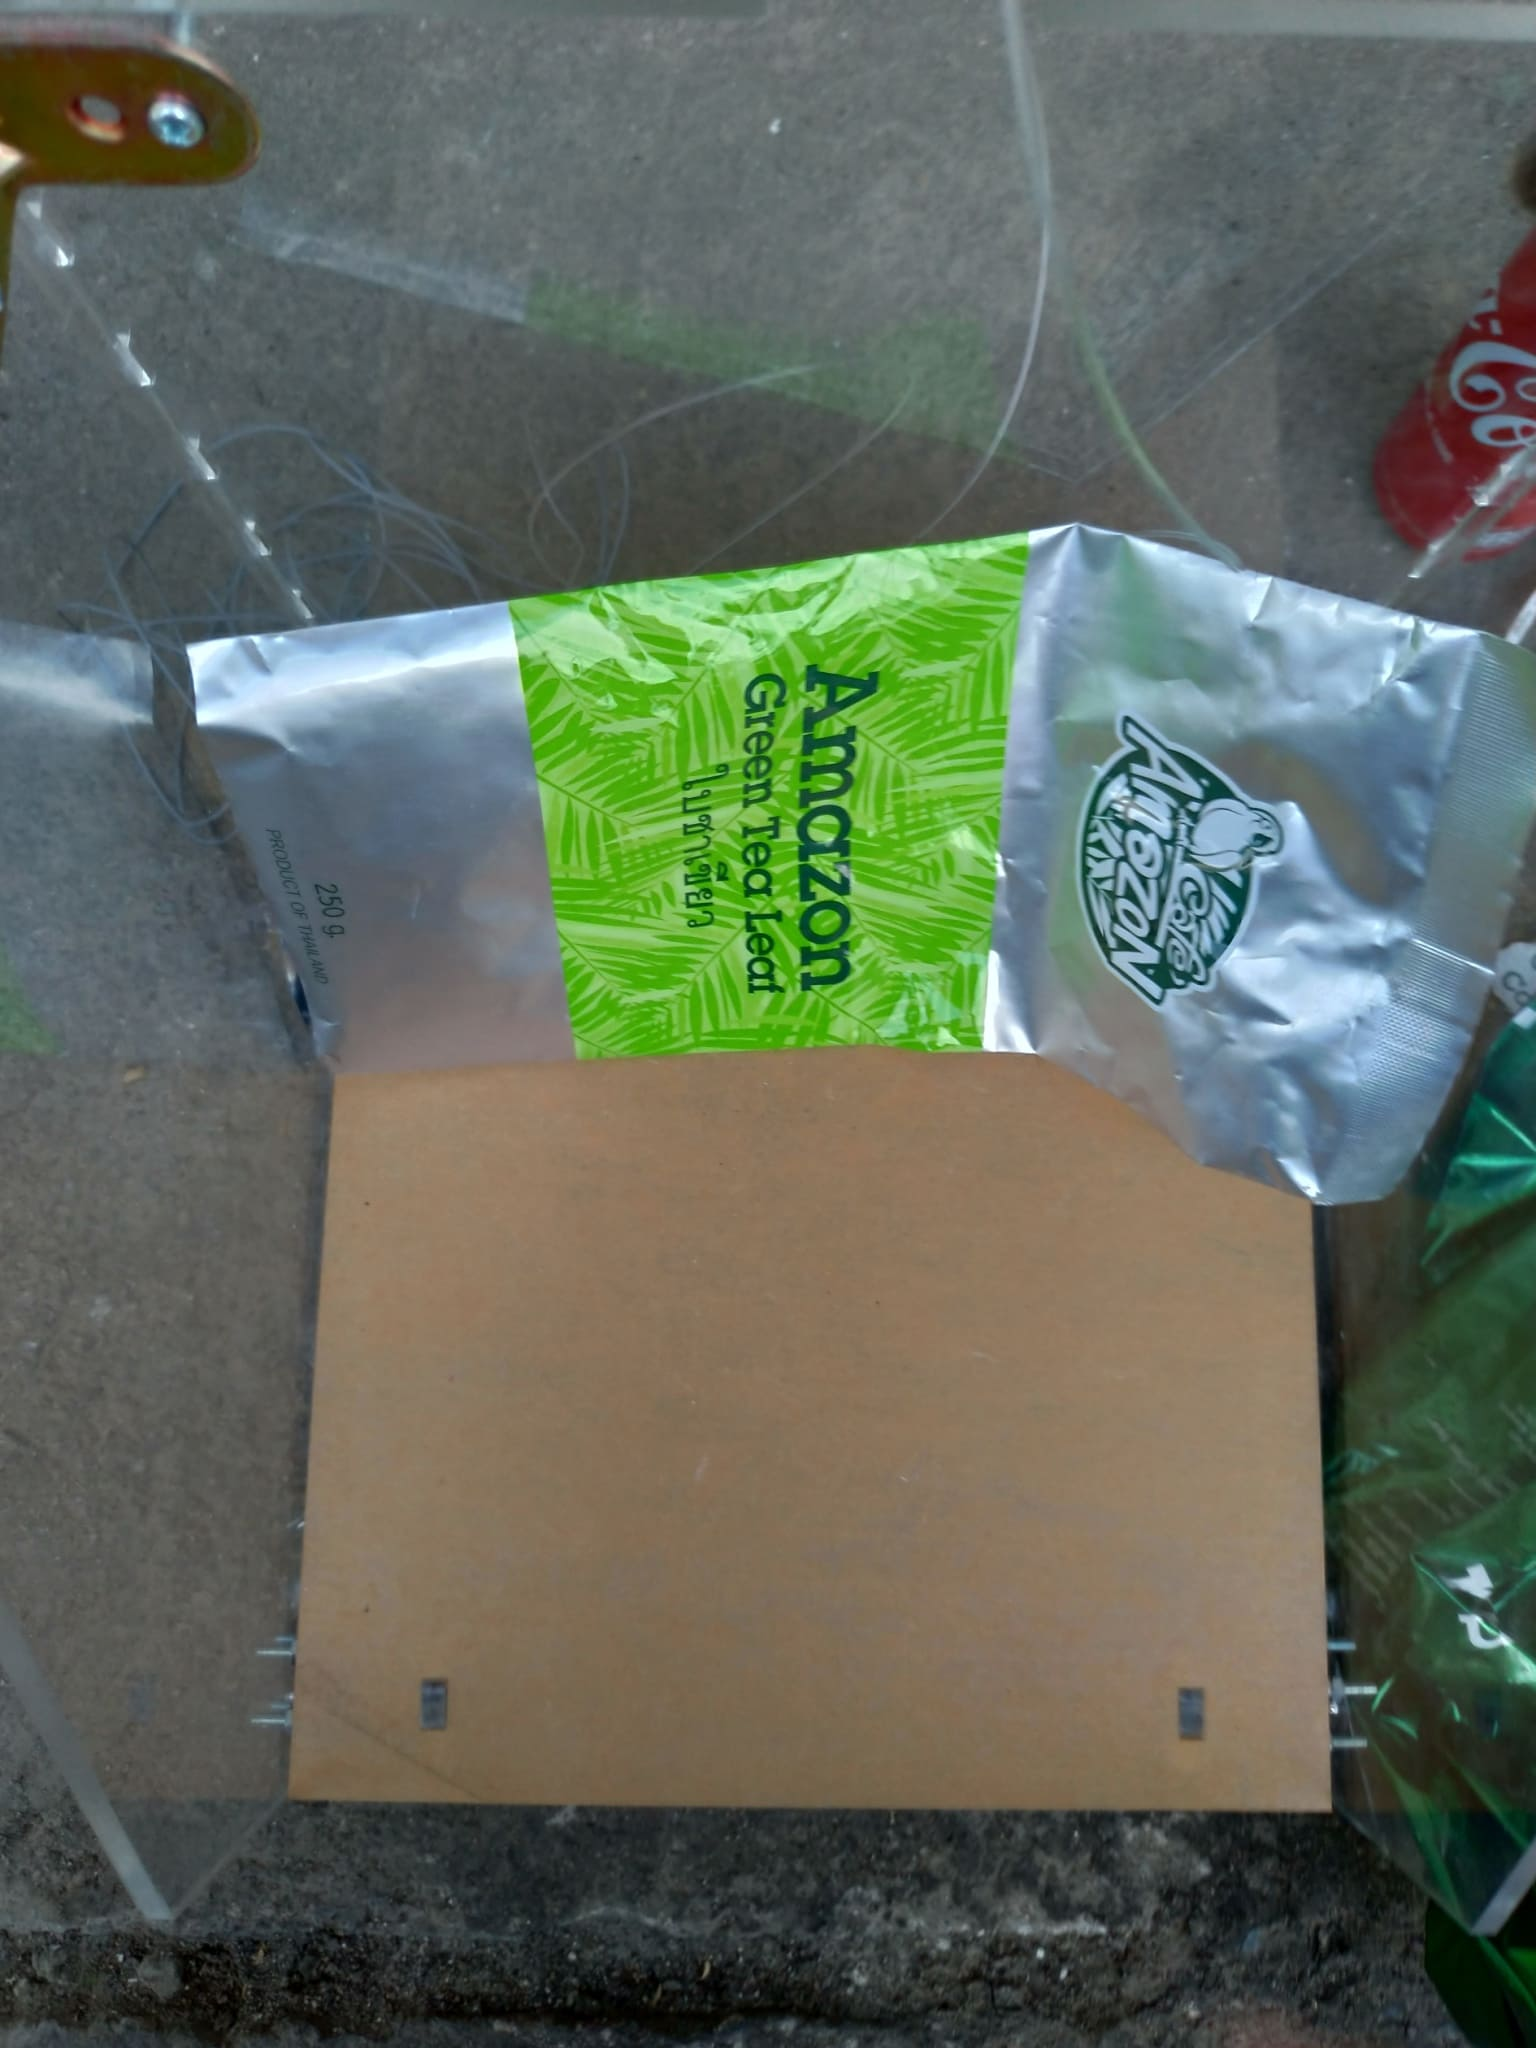AlCan: (1383, 290, 1536, 539)
Others: (186, 514, 1534, 1192), (1317, 1155, 1533, 1995)
